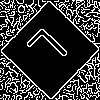L: (25, 25, 78, 78)
